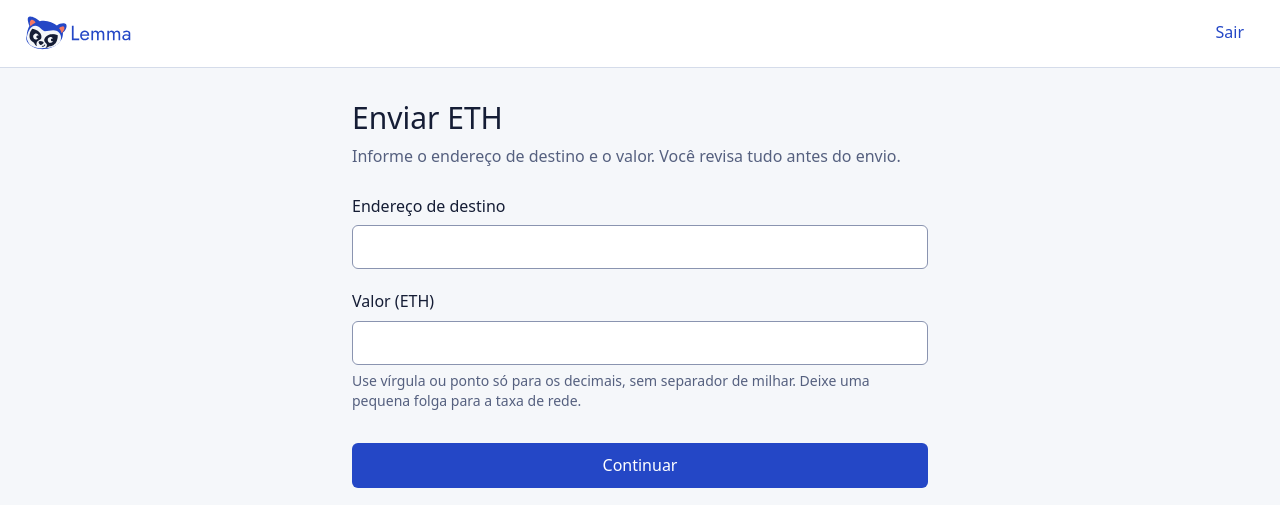
Test: SendPage: revisão › "1.000" é revisado como 1 ETH
Expected: the heading "Enviar ETH" is shown, [352,97,503,138]
Type "0x5B38Da6a701c568545dCfcB03FcB875f56beddC4" into the field labelled "Endereço de destino".
click(640, 247); type("0x5B38Da6a701c568545dCfcB03FcB875f56beddC4")  # box [352,225,928,269]
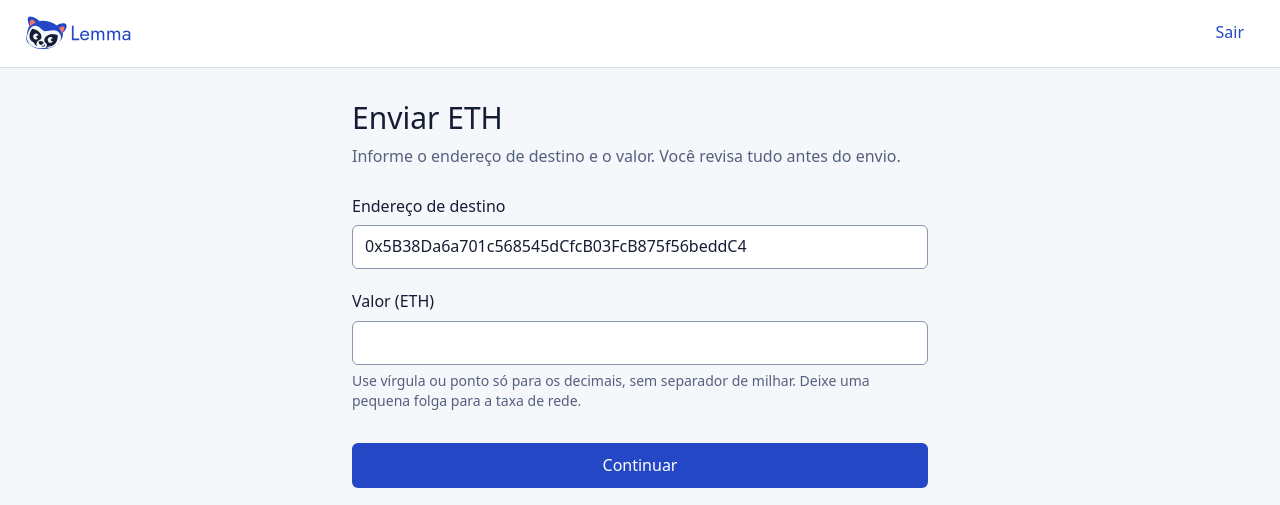
Type "1.000" into the field labelled "Valor (ETH)".
click(640, 343); type("1.000")  # box [352,321,928,365]
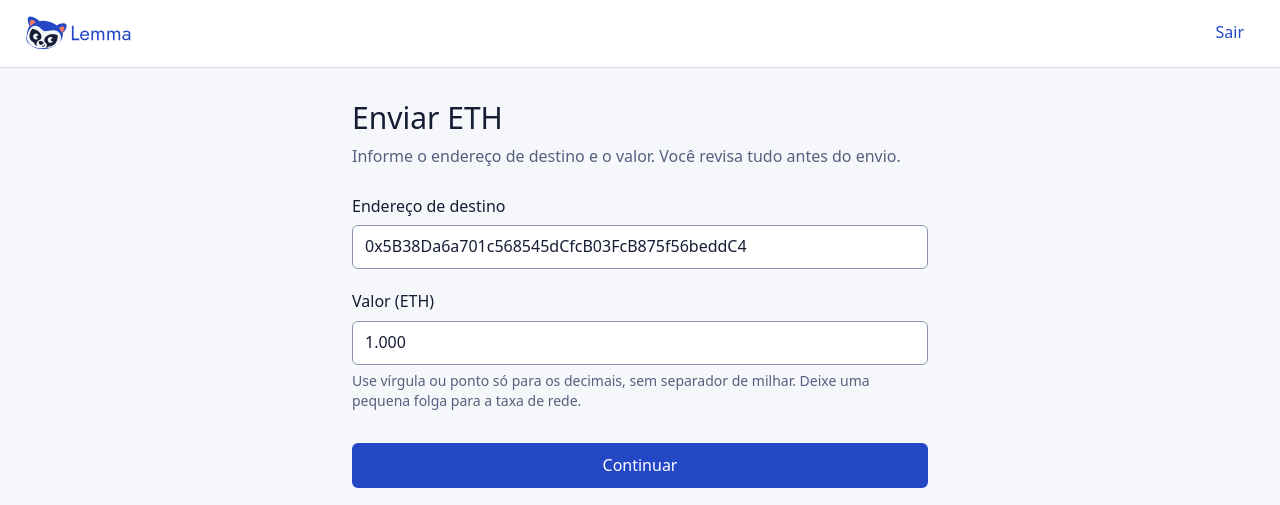
Click the button "Continuar".
click(640, 466)  # box [352,443,928,488]
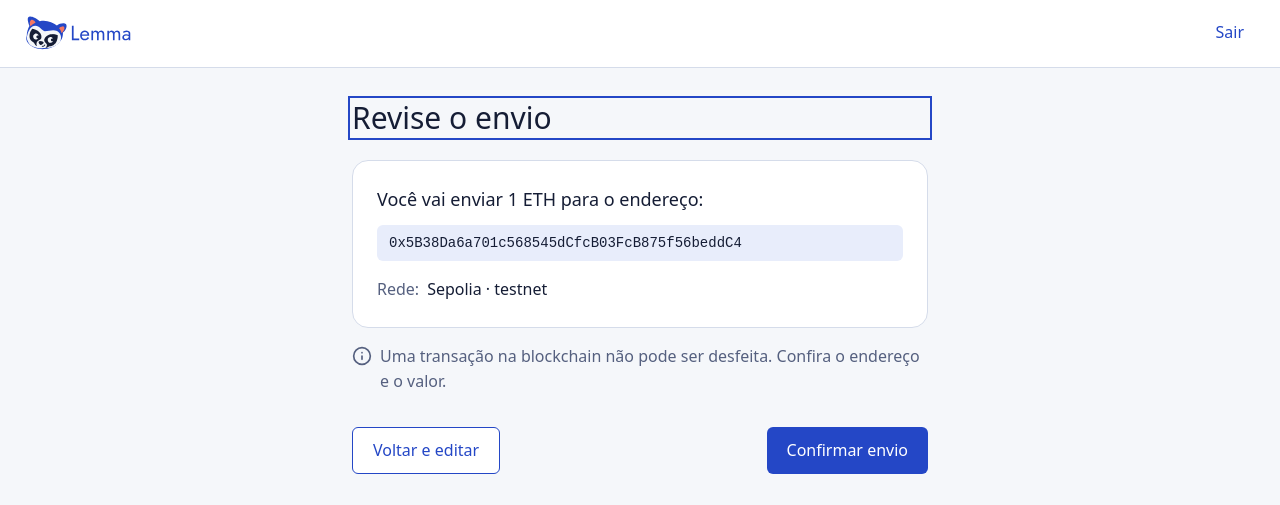
Now the heading "Revise o envio" is shown, box [352,97,552,138]
Now the text "1 ETH" is shown, box [508,187,556,211]
